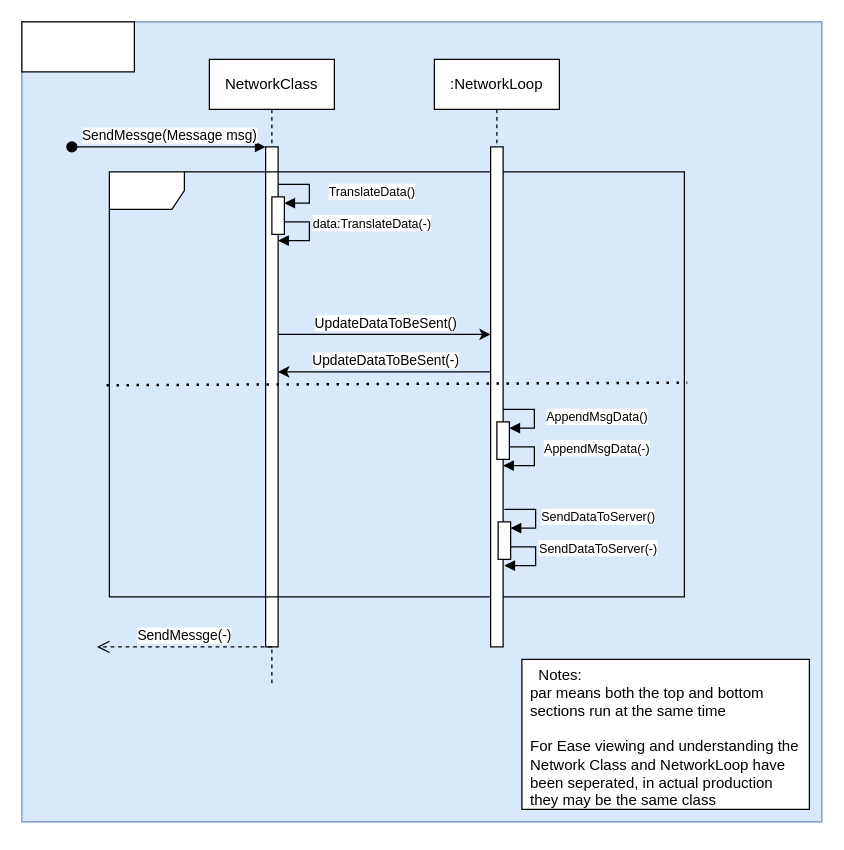
Image size: 844x850. Some labels were removed from this diagram. The centre of each missing label's shape, as x and y in pixels:
par: (x=396, y=384)
SendMessage: (x=77, y=46)
